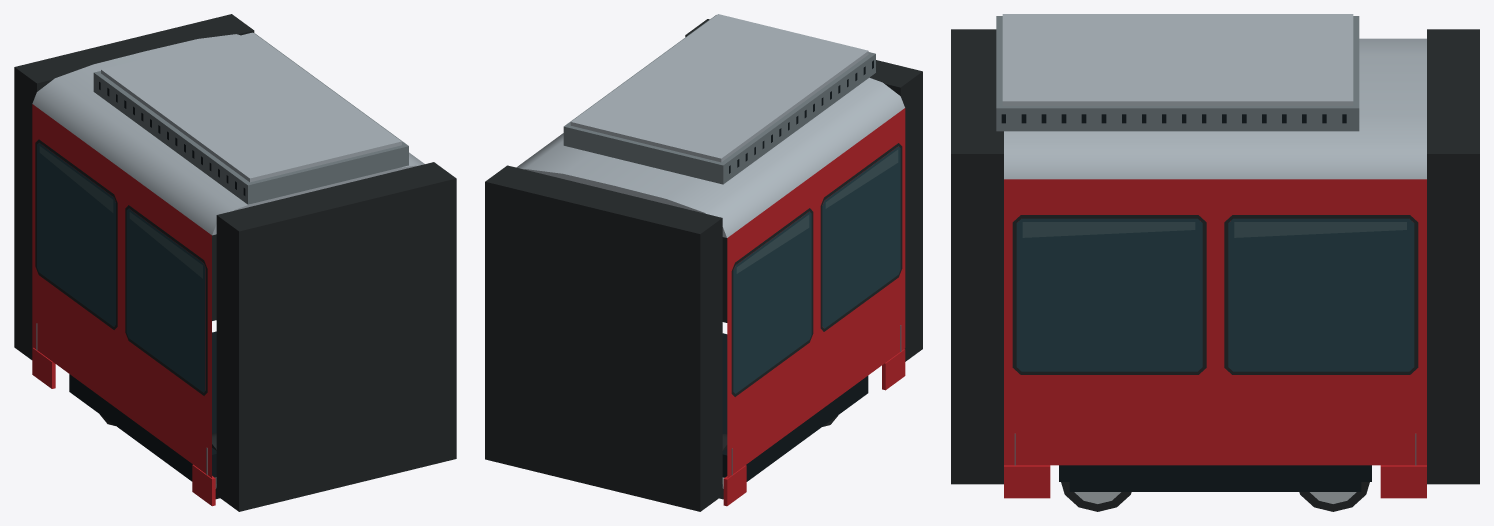
The model's file is 14t-c-viewer.glb.
3 views of the same model, side by side, from view 1: azimuth 30°, elevation 25°; view 2: azimuth 150°, elevation 25°; view 3: azimuth 270°, elevation 25° (orthographic). The views are drawn at different scales.
Visible parts, largest first — view 1: 14t-c; view 2: 14t-c; view 3: 14t-c.
Part boxes in pixels (bbox=[...]): 14t-c: bbox=[14, 14, 456, 511]; 14t-c: bbox=[485, 14, 922, 511]; 14t-c: bbox=[951, 14, 1479, 511].
Bounding box in the file's own units: 2.48 × 3.61 × 4.22.
